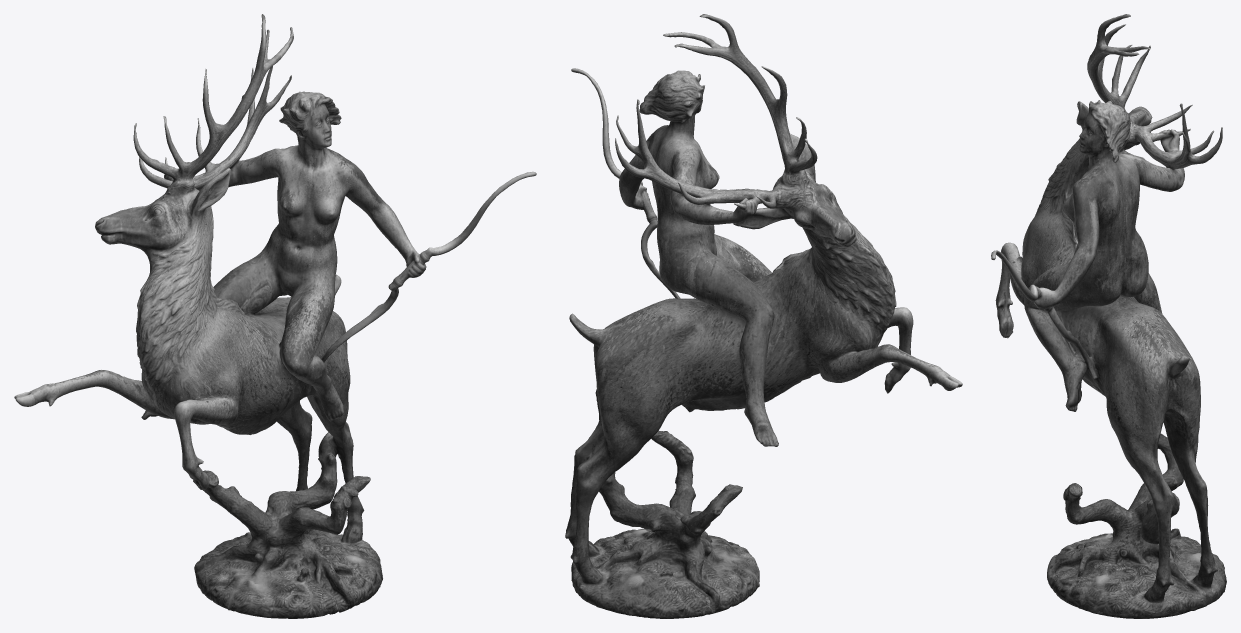
File: artemis_fountain.glb
The picture shows the model from 3 angles, left to right: view 1: azimuth 30°, elevation 25°; view 2: azimuth 150°, elevation 25°; view 3: azimuth 270°, elevation 25°; orthographic projection. The views are drawn at different scales.
Parts seen in each view (by area): view 1: Object_2; view 2: Object_2; view 3: Object_2.
Part boxes in pixels (left/top/right/bottom): Object_2: left=14, top=14, right=536, bottom=618; Object_2: left=565, top=14, right=962, bottom=618; Object_2: left=991, top=14, right=1226, bottom=618.
Bounding box in the file's own units: 28.47 × 34.22 × 13.27.
1 material, 1 textured.
